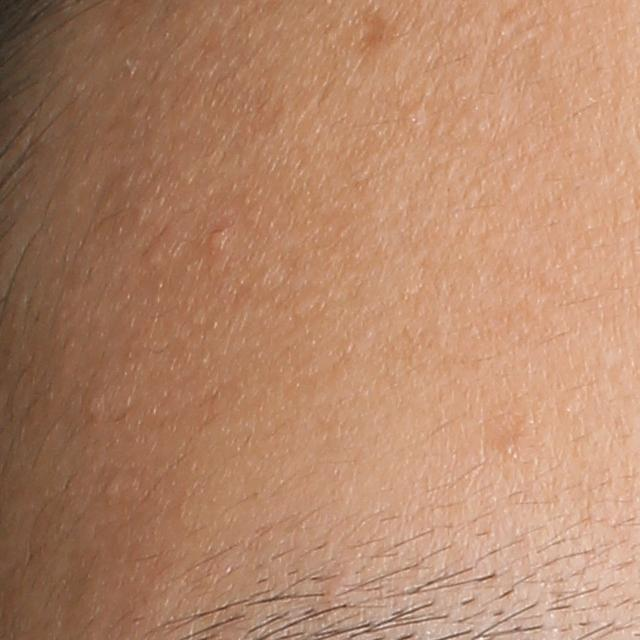comedo: (403, 104, 429, 130), (207, 227, 225, 249)
